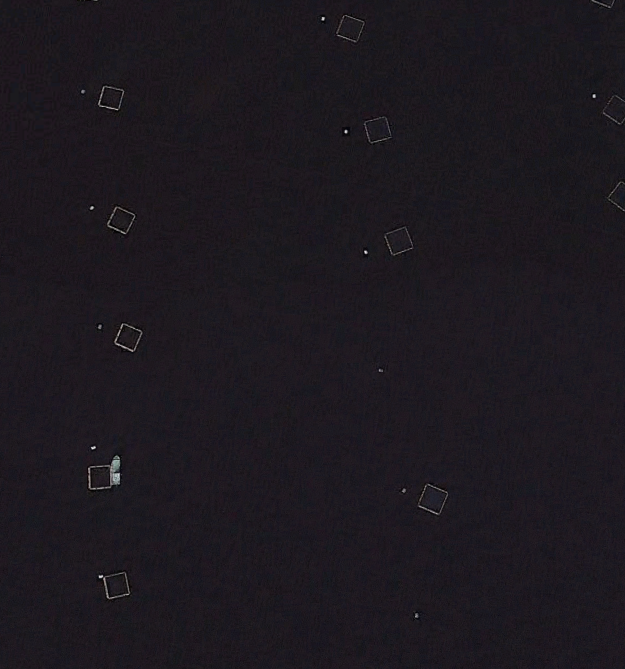ship: (105, 447, 129, 486)
square: (410, 470, 456, 521), (376, 212, 419, 262), (103, 192, 141, 246), (97, 560, 136, 610), (72, 457, 115, 499), (329, 5, 371, 46), (108, 315, 150, 355), (357, 108, 397, 149), (599, 84, 625, 133), (93, 80, 130, 113)
